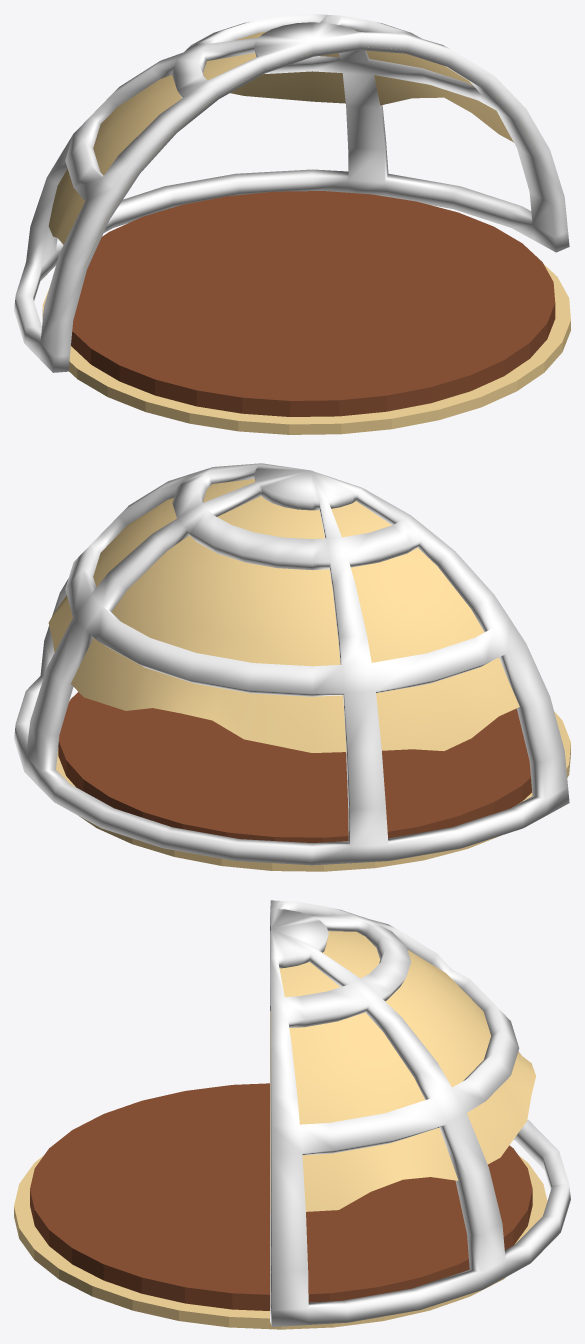
File: studio.fbx
3 renders of one model, top to bottom at view 1: azimuth 30°, elevation 25°; view 2: azimuth 150°, elevation 25°; view 3: azimuth 270°, elevation 25°, orthographic.
Parts seen in each view (by area): view 1: Cylinder.001, Sphere.001, Sphere, Cylinder; view 2: Sphere.001, Sphere, Cylinder.001, Cylinder; view 3: Cylinder.001, Sphere.001, Sphere, Cylinder.
Part boxes in pixels (x1,y1,x2,y2): Cylinder.001: (71, 191, 555, 416); Sphere.001: (14, 14, 569, 372); Sphere: (48, 31, 540, 267); Cylinder: (42, 264, 570, 434); Sphere.001: (14, 463, 569, 865); Sphere: (48, 479, 519, 752); Cylinder.001: (58, 692, 531, 842); Cylinder: (56, 701, 570, 871); Cylinder.001: (30, 1083, 532, 1310); Sphere.001: (270, 900, 570, 1326); Sphere: (270, 931, 535, 1213); Cylinder: (14, 1155, 547, 1329).
Bounding box in the file's own units: 212 × 112 × 196.
